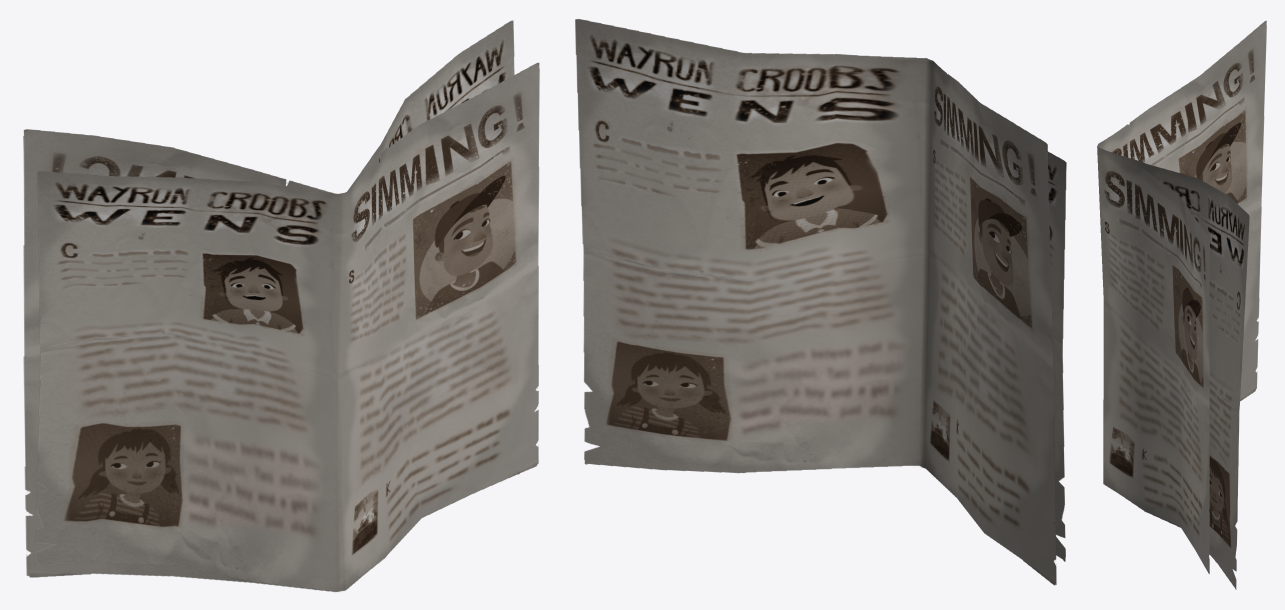
The model's file is Profeta.glb.
The picture shows the model from 3 angles, left to right: view 1: azimuth 30°, elevation 25°; view 2: azimuth 150°, elevation 25°; view 3: azimuth 270°, elevation 25°; orthographic projection. The views are drawn at different scales.
Visible parts, largest first — view 1: Profeta; view 2: Profeta; view 3: Profeta.
Boxes of the visible parts, x1,y1,x2,y2 form: Profeta: (23, 20, 539, 592); Profeta: (575, 19, 1066, 585); Profeta: (1097, 20, 1266, 589).
Size of the model in its own units: 1.51 by 1.33 by 0.5498.
Materials: 1 (1 with a texture image).
